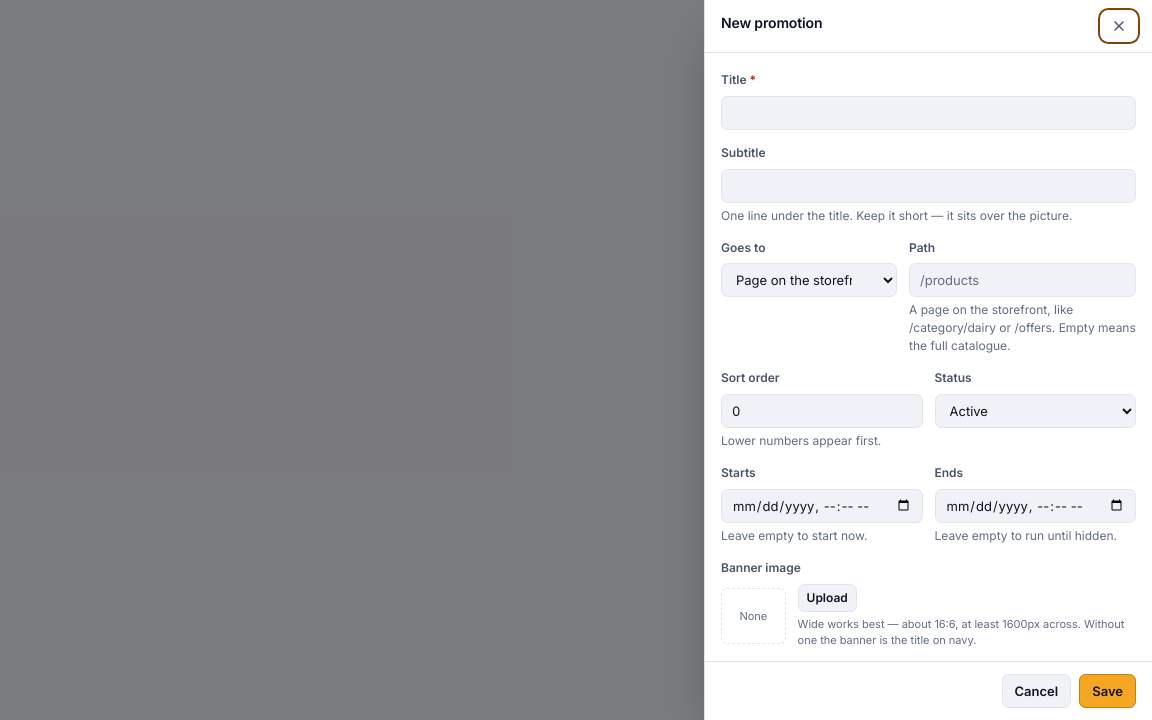
Test: PromoDrawer › will not submit a full web address as a storefront path
Type "Diwali" into the field labelled "Title *" at coordinates (928, 113), box [721,96,1136,130]
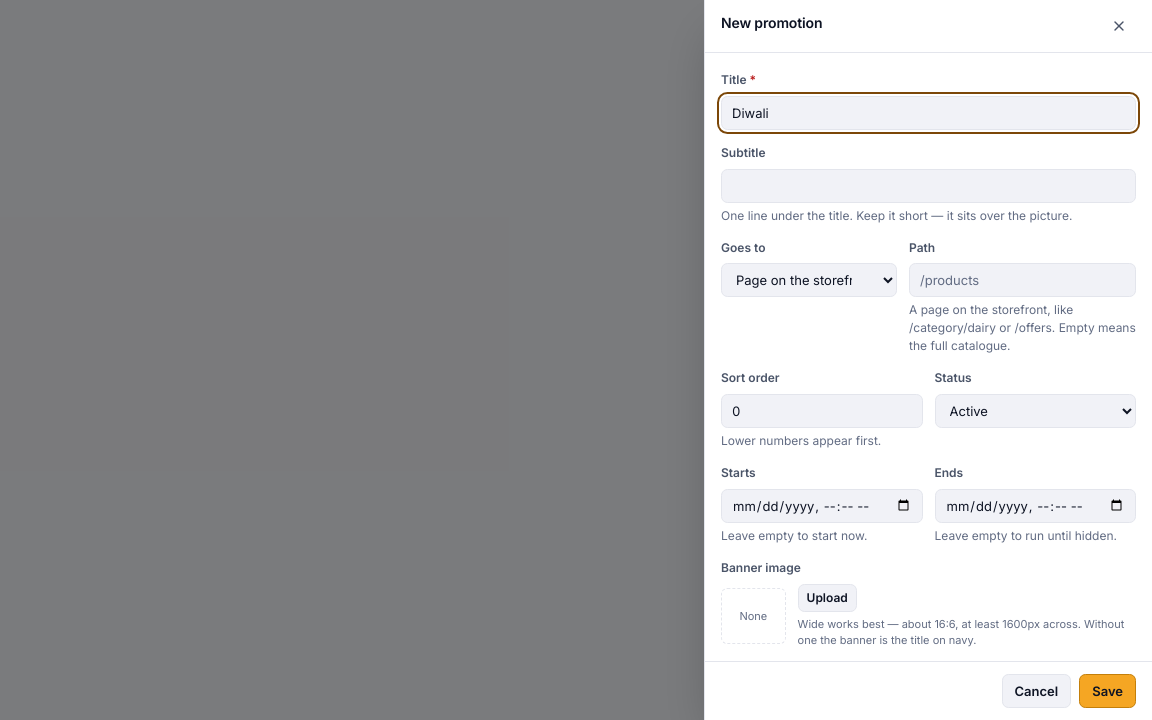
Type "https://example.com" into the field labelled "Path" at coordinates (1022, 280), box [909,263,1136,297]
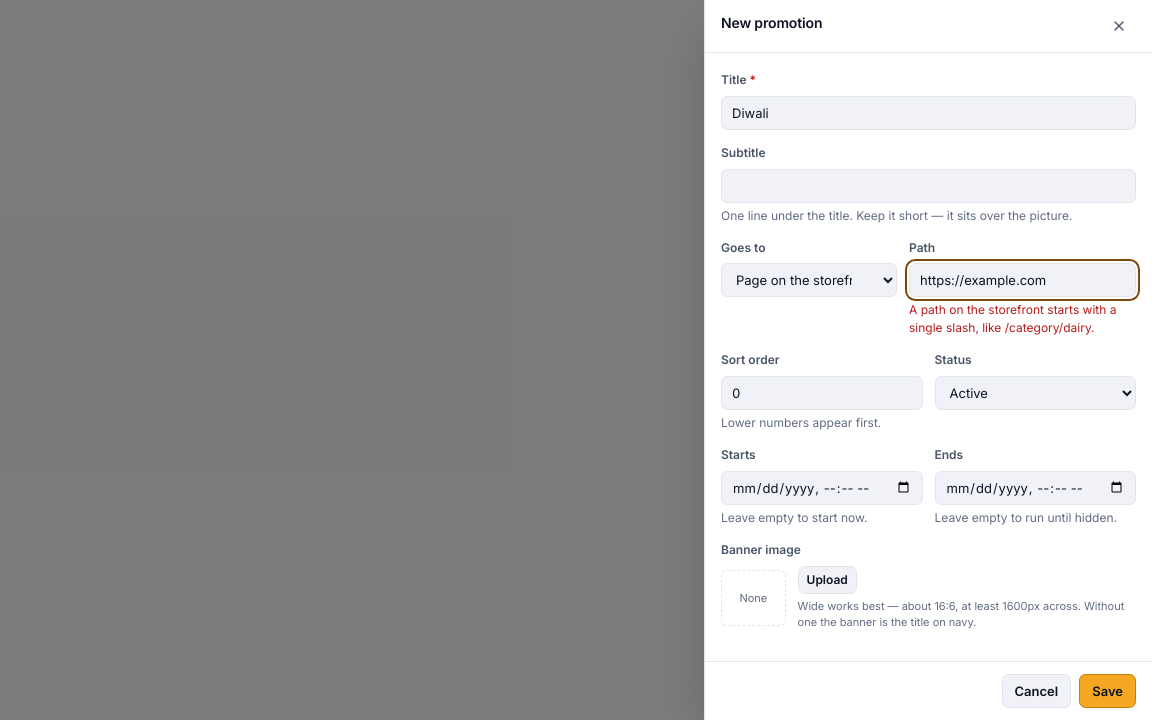
Click the button "Save" at coordinates (1108, 691), box [1079,674,1136,708]
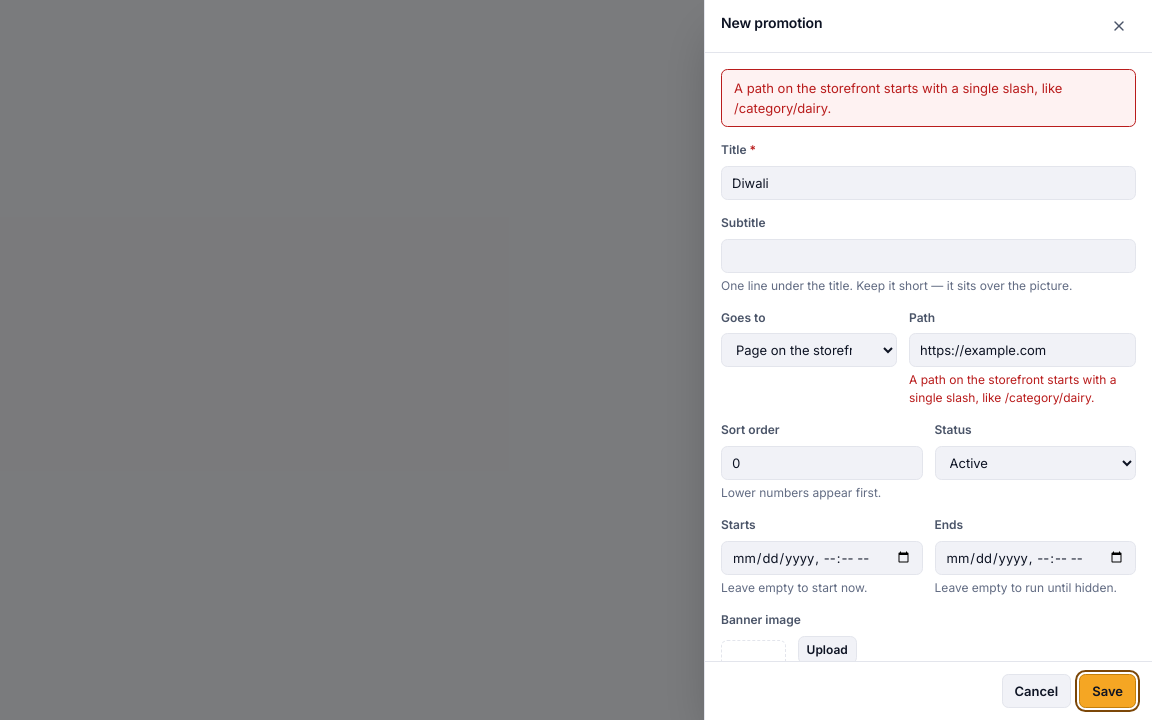
Expected: the 1st text "single slash" is shown, [734,80,1062,116]
